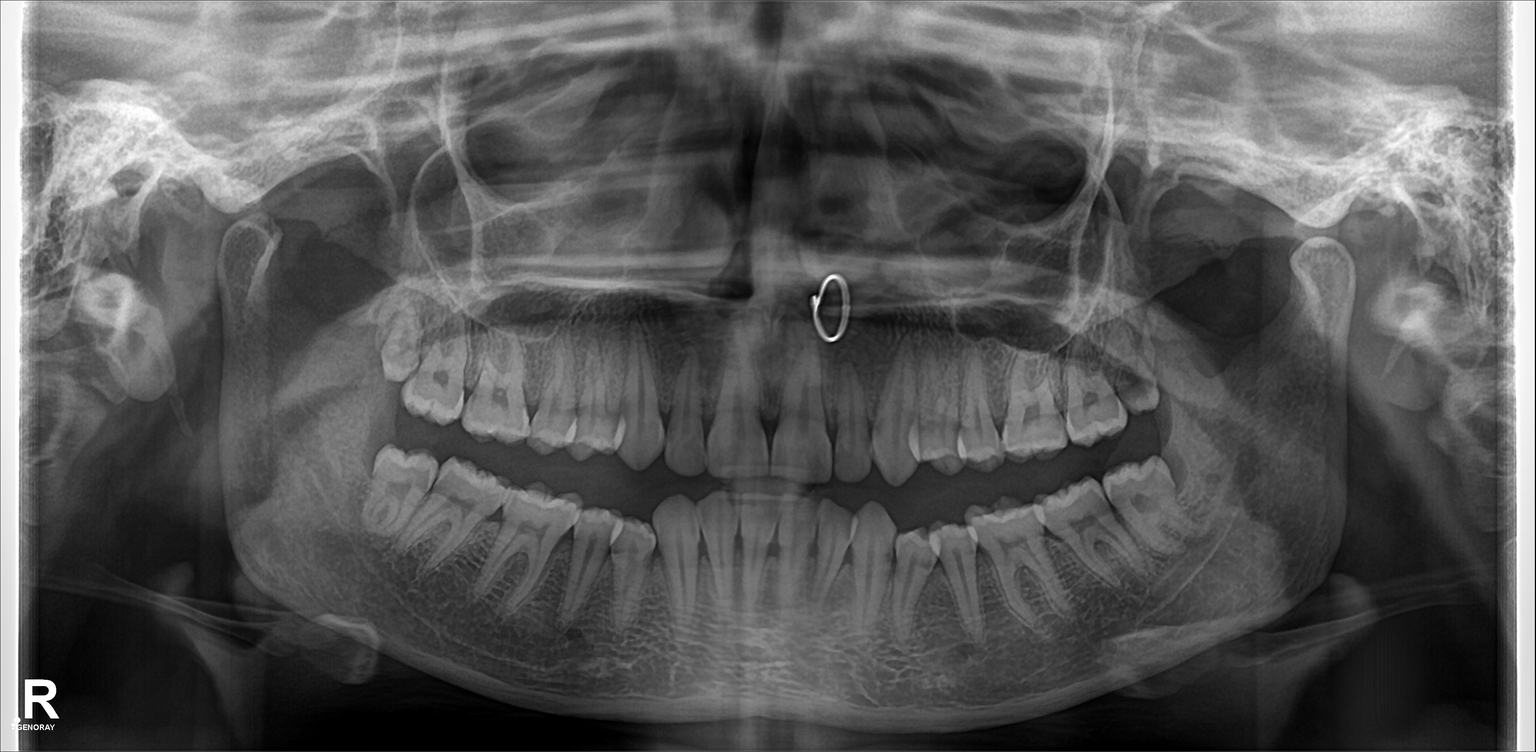Dental Caries: (1117, 363, 1153, 395)
Impacted Third Molar: (369, 294, 429, 377)
